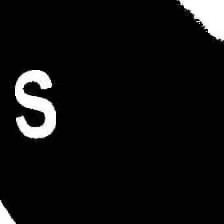LTR_S: (9, 63, 60, 141)
